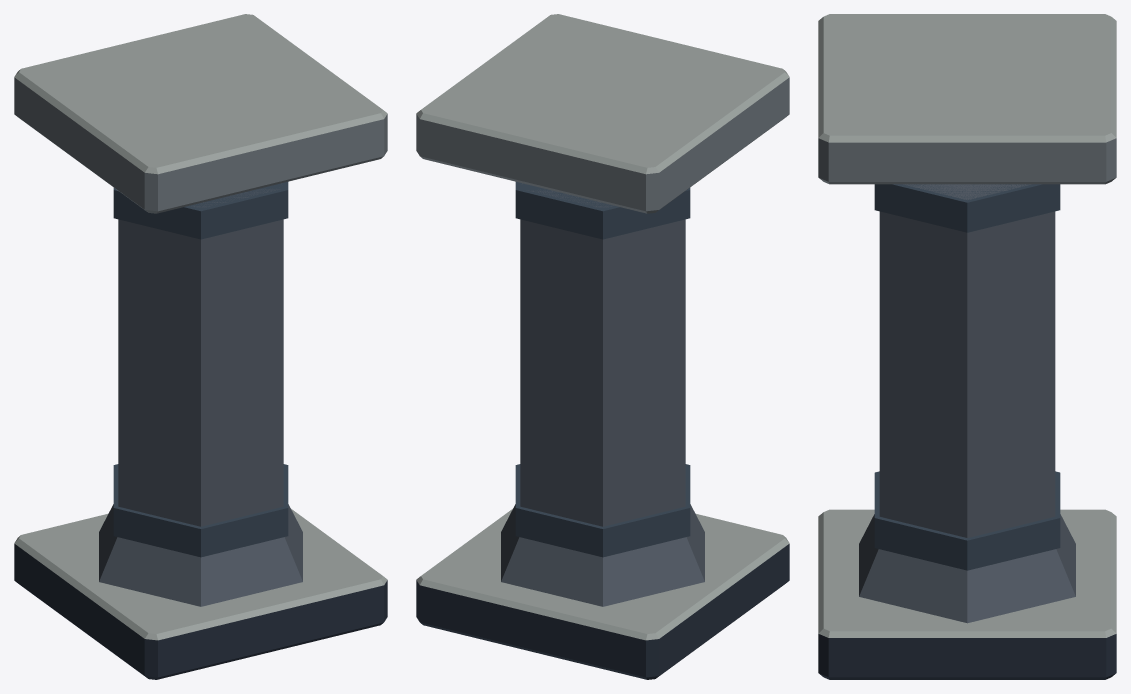
The model's file is pillar-small.glb.
3 renders of one model, left to right at view 1: azimuth 30°, elevation 25°; view 2: azimuth 150°, elevation 25°; view 3: azimuth 270°, elevation 25°, orthographic. The views are drawn at different scales.
Parts seen in each view (by area): view 1: pillar-small__body; view 2: pillar-small__body; view 3: pillar-small__body.
Boxes of the visible parts, left/top/right/bottom form: pillar-small__body: left=14, top=14, right=387, bottom=679; pillar-small__body: left=416, top=14, right=789, bottom=679; pillar-small__body: left=818, top=14, right=1116, bottom=679.
Bounding box in the file's own units: 0.72 × 1.45 × 0.72.
